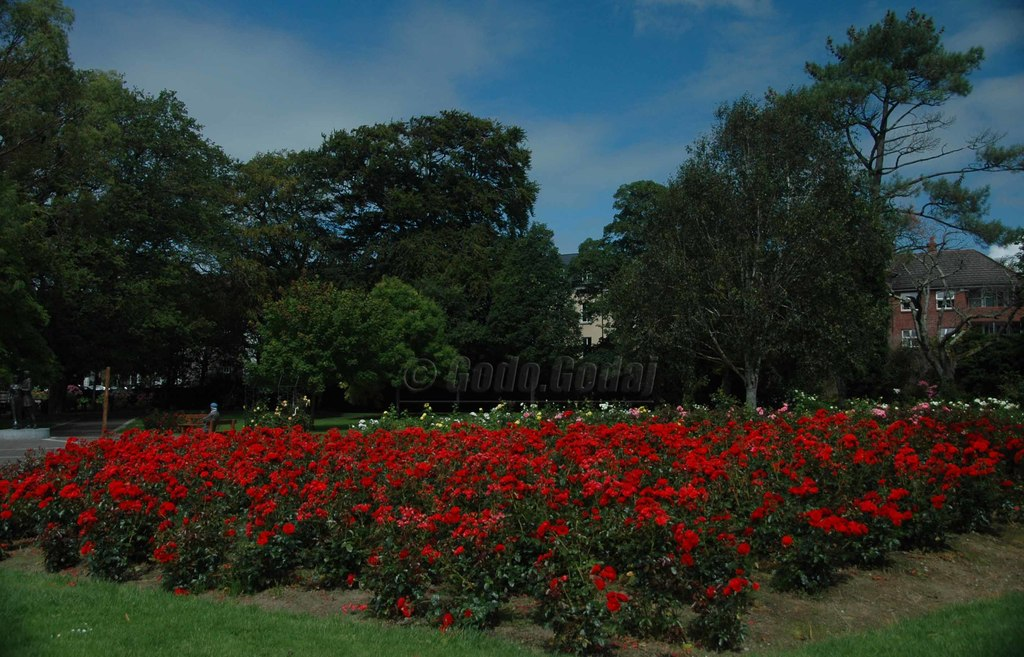Tree: (0, 0, 1020, 401), (739, 12, 995, 406)
